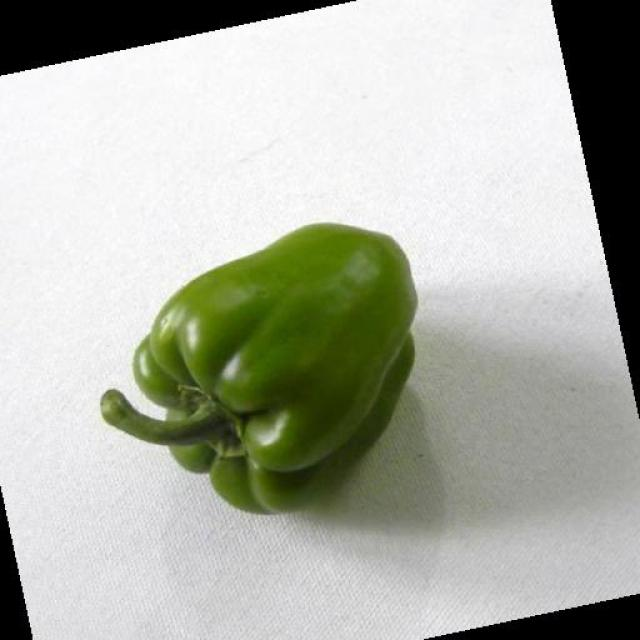Fresh_Capsicum: (105, 205, 430, 478)
